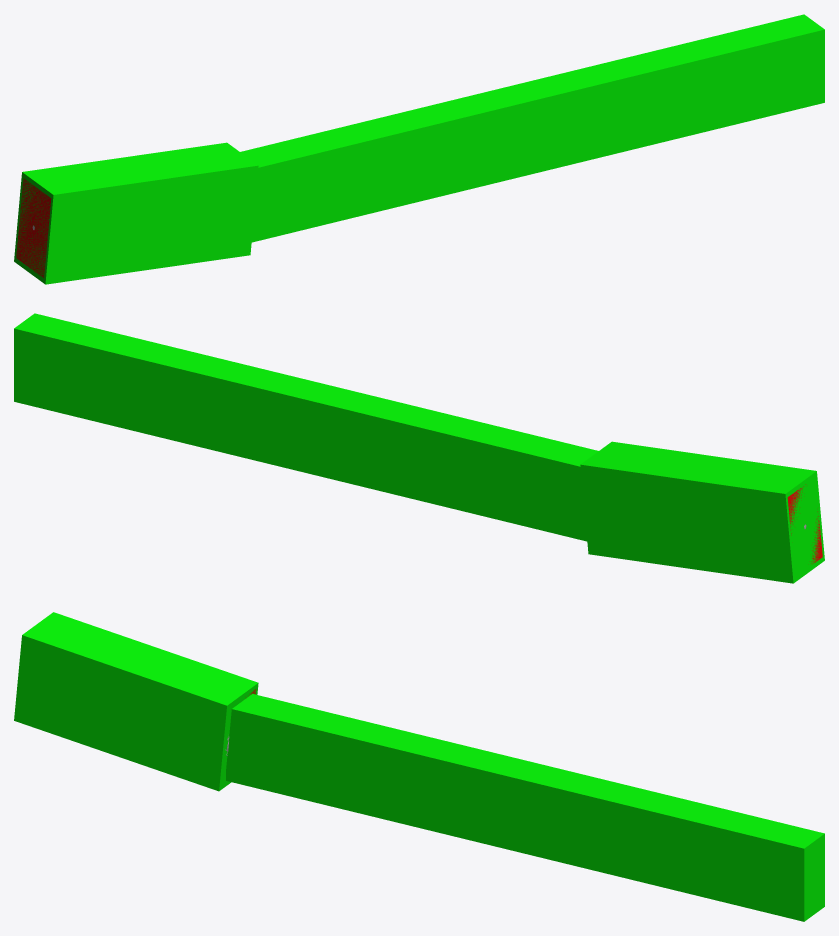
Rendered from katana.glb.
3 views of the same model, one above another, from view 1: azimuth 30°, elevation 25°; view 2: azimuth 150°, elevation 25°; view 3: azimuth 330°, elevation 25° (orthographic).
Visible parts, largest first — view 1: Box_2_sheath, Box_2_Katana, Box_1_Katana; view 2: Box_2_sheath, Box_2_Katana, Box_1_Katana; view 3: Box_2_sheath, Box_2_Katana.
Part boxes in pixels (left/top/right/bottom): Box_2_sheath: left=240, top=14, right=824, bottom=242; Box_2_Katana: left=14, top=142, right=258, bottom=284; Box_1_Katana: left=16, top=178, right=51, bottom=277; Box_2_sheath: left=14, top=313, right=598, bottom=541; Box_2_Katana: left=580, top=441, right=824, bottom=583; Box_1_Katana: left=787, top=484, right=822, bottom=564; Box_2_sheath: left=226, top=694, right=824, bottom=921; Box_2_Katana: left=14, top=612, right=258, bottom=791.
Size of the model in its own units: 0.9325 by 0.123 by 0.0647.
